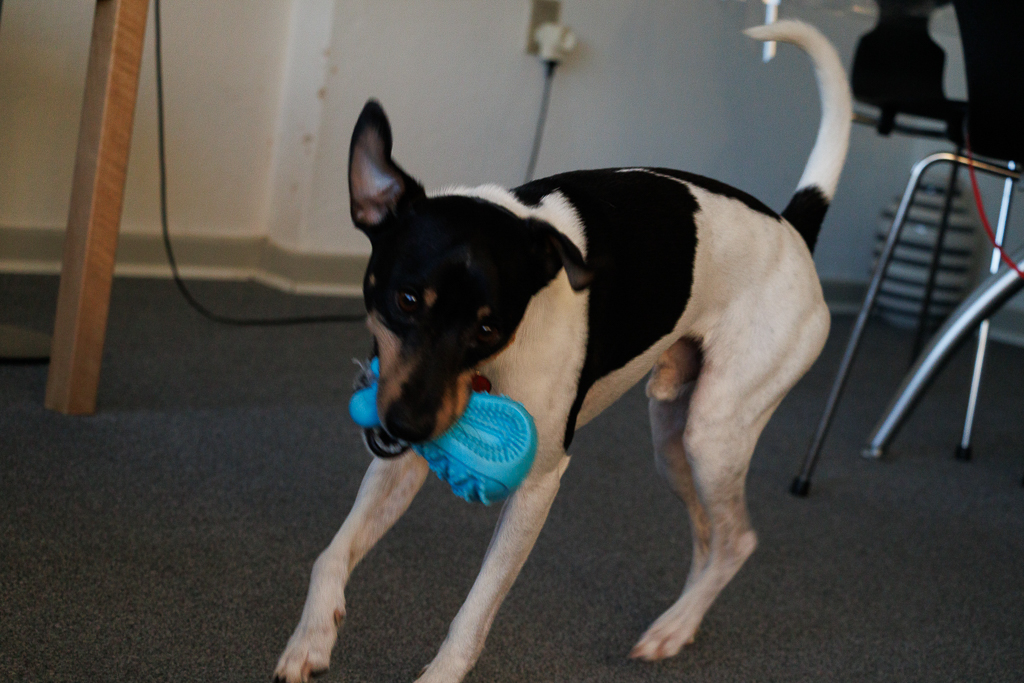Dog: (261, 12, 857, 682)
